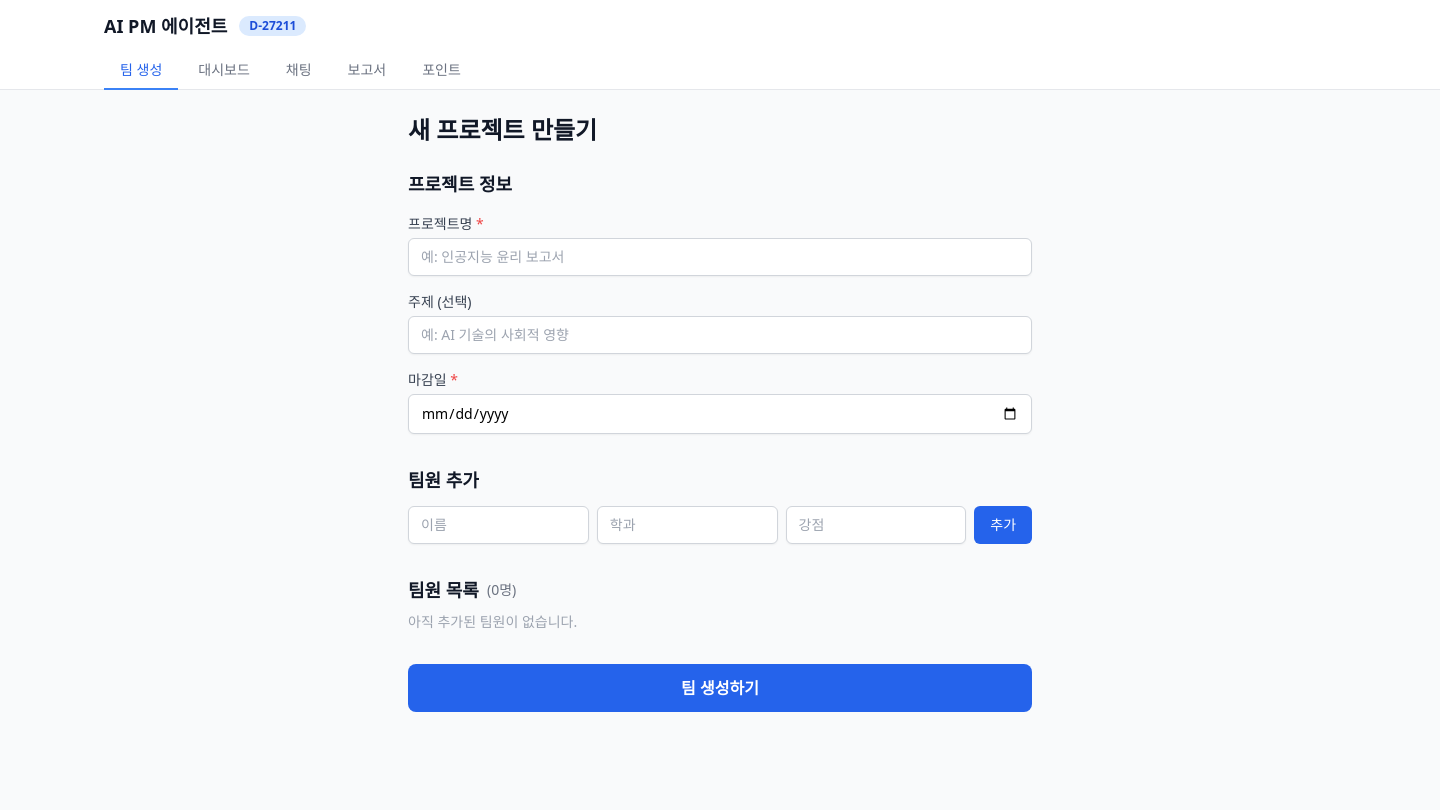
Test case: App › switches to 대시보드 tab on click
Click the button "대시보드" at [224, 71], box [182,52,266,90]
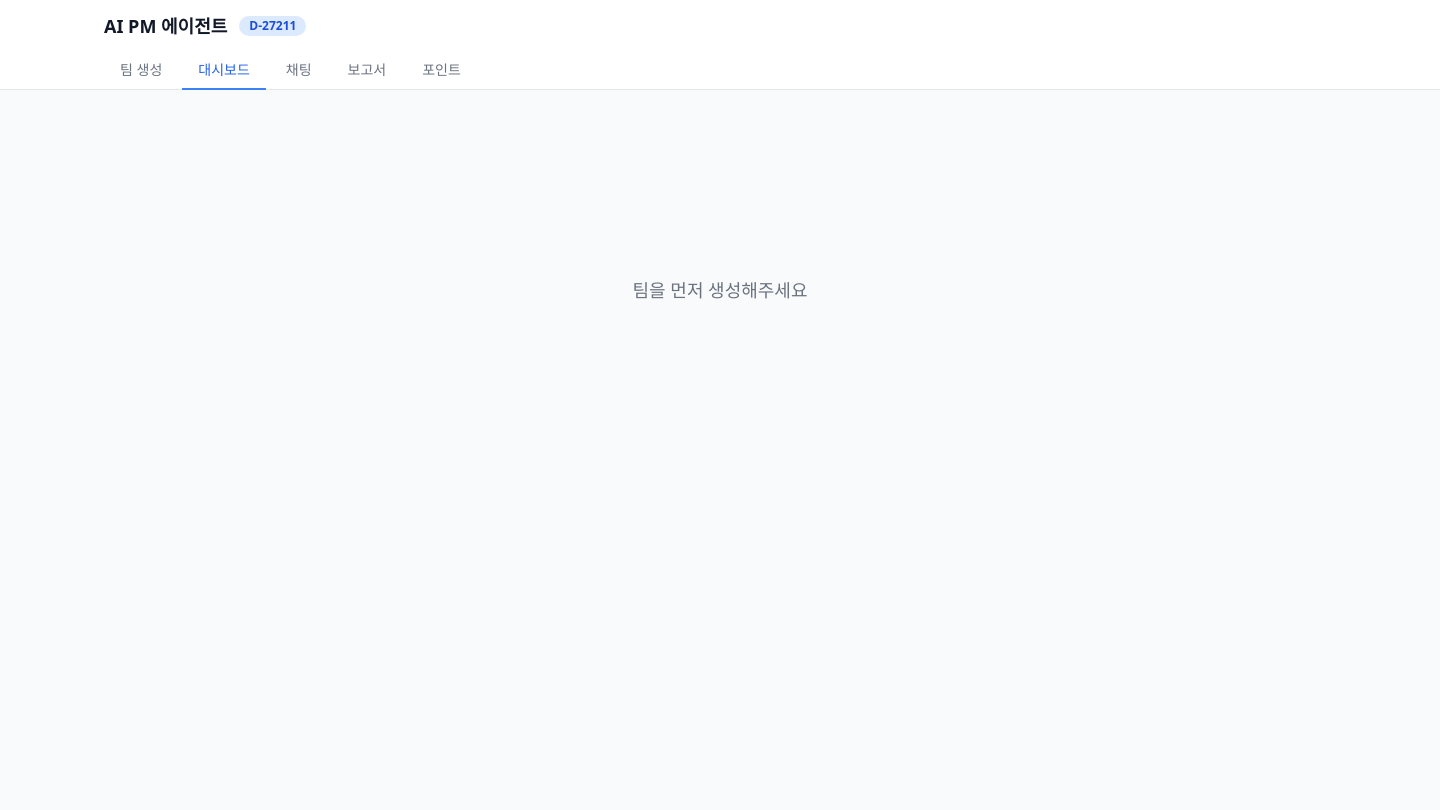
Expected: the text "팀을 먼저 생성해주세요" is shown, [632,276,808,304]
